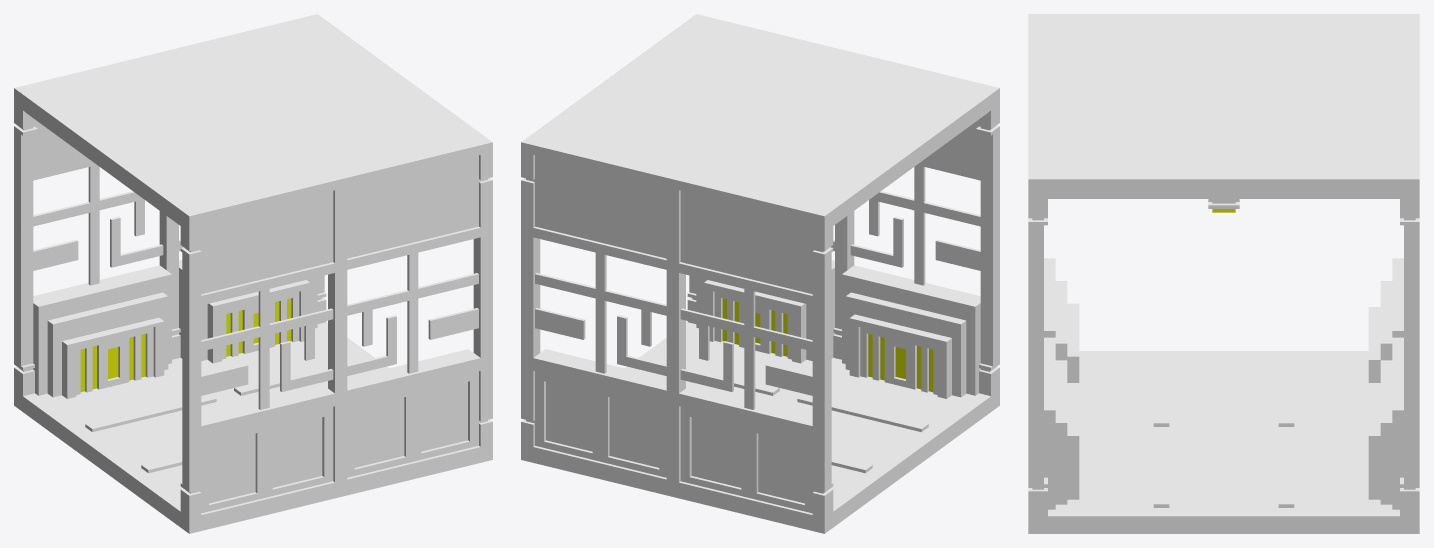
The model's file is corridor_1.obj.
The picture shows the model from 3 angles, left to right: view 1: azimuth 30°, elevation 25°; view 2: azimuth 150°, elevation 25°; view 3: azimuth 270°, elevation 25°; orthographic projection. The views are drawn at different scales.
Parts seen in each view (by area): view 1: corridor_1; view 2: corridor_1; view 3: corridor_1.
Part boxes in pixels (box(x1,y1,x2,y2)): corridor_1: box(14, 14, 492, 533); corridor_1: box(521, 14, 999, 533); corridor_1: box(1028, 14, 1419, 533).
Size of the model in its own units: 100 by 100 by 100.
1 material, 1 textured.
